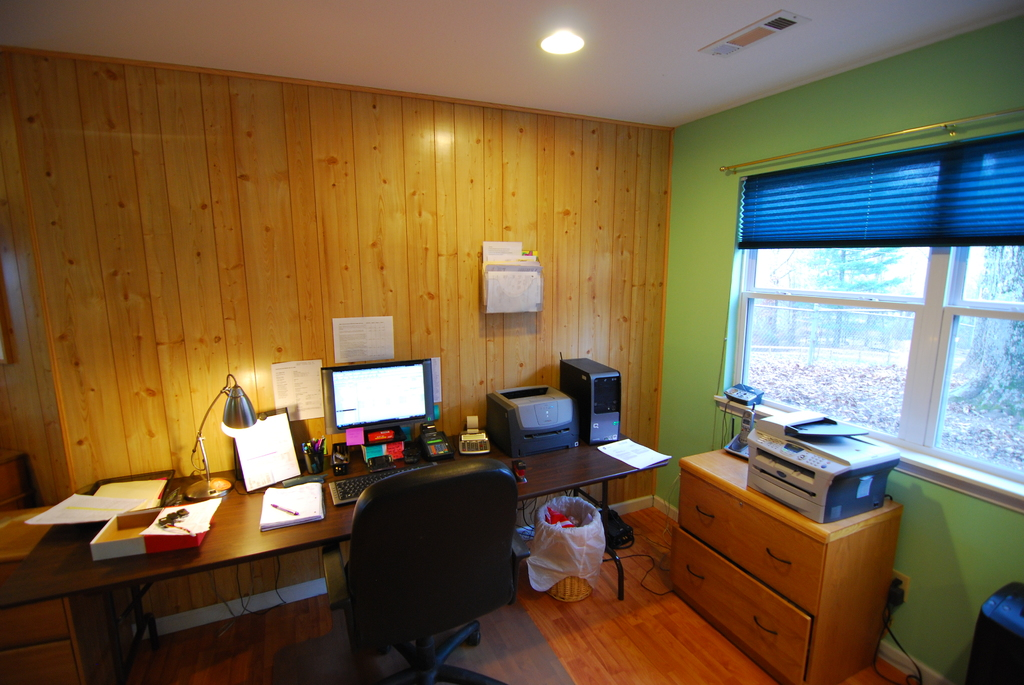cabinet door: (674, 536, 806, 655), (690, 474, 828, 575), (2, 644, 71, 685), (0, 605, 89, 627)
handle: (750, 616, 783, 645), (765, 539, 792, 570), (679, 560, 706, 589), (696, 505, 722, 527)
